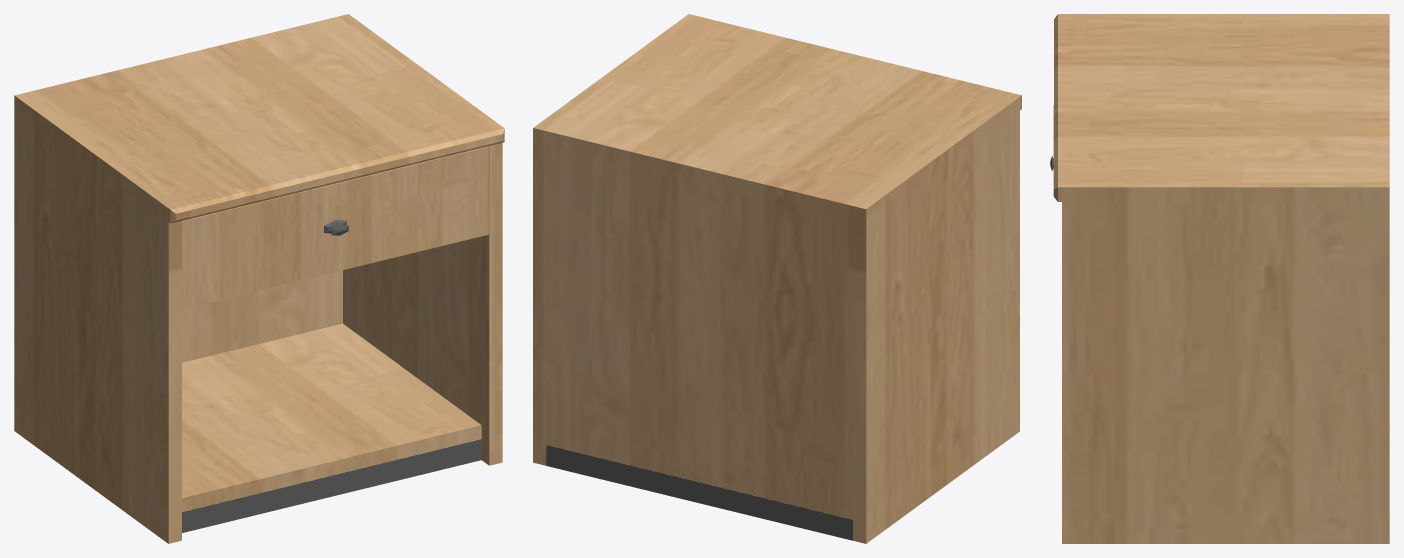
The model's file is by-bedsidetable.glb.
3 views of the same model, side by side, from view 1: azimuth 30°, elevation 25°; view 2: azimuth 150°, elevation 25°; view 3: azimuth 270°, elevation 25° (orthographic). The views are drawn at different scales.
Parts seen in each view (by area): view 1: Plane_Plane.001, Drawer.002, Plane.002; view 2: Plane_Plane.001, Plane.002; view 3: Plane_Plane.001.
Part boxes in pixels (left/top/right/bottom): Plane_Plane.001: left=14, top=14, right=504, bottom=543; Drawer.002: left=182, top=146, right=488, bottom=309; Plane.002: left=182, top=439, right=481, bottom=532; Plane_Plane.001: left=533, top=14, right=1021, bottom=543; Plane.002: left=546, top=445, right=852, bottom=540; Plane_Plane.001: left=1053, top=14, right=1389, bottom=543.
Size of the model in its own units: 0.5 by 0.48 by 0.414.
2 materials, 1 textured.
